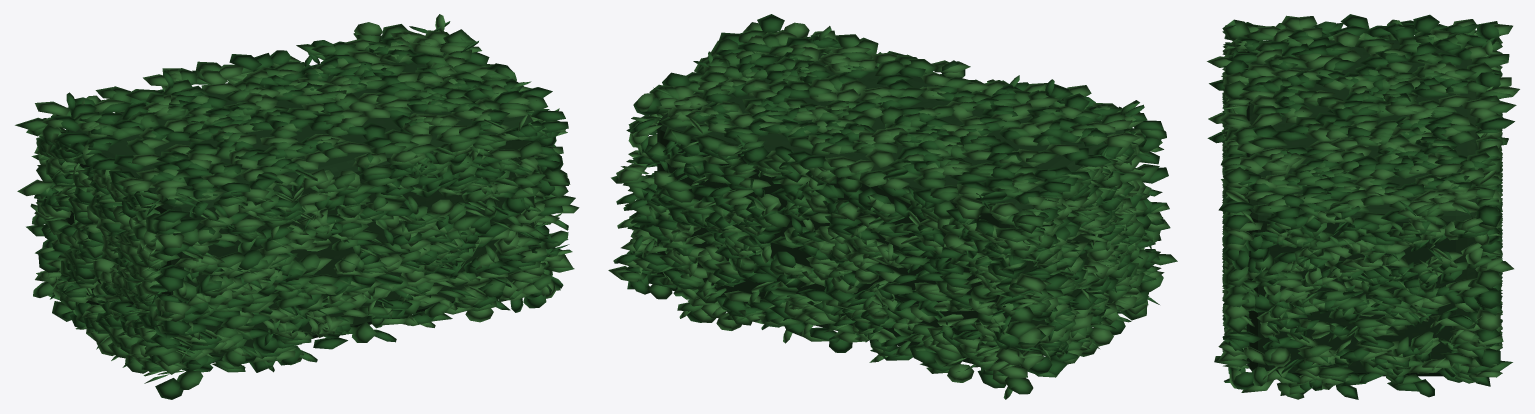
File: Boxwood_Low.fbx
3 renders of one model, left to right at view 1: azimuth 30°, elevation 25°; view 2: azimuth 150°, elevation 25°; view 3: azimuth 270°, elevation 25°, orthographic.
Visible parts, largest first — view 1: Boxwood_Low; view 2: Boxwood_Low; view 3: Boxwood_Low.
Boxes of the visible parts, x1,y1,x2,y2 form: Boxwood_Low: (15, 14, 579, 399); Boxwood_Low: (608, 14, 1177, 399); Boxwood_Low: (1207, 14, 1519, 399).
Bounding box in the file's own units: 0.9985 × 0.45 × 0.6294.
5 materials, 5 textured.
